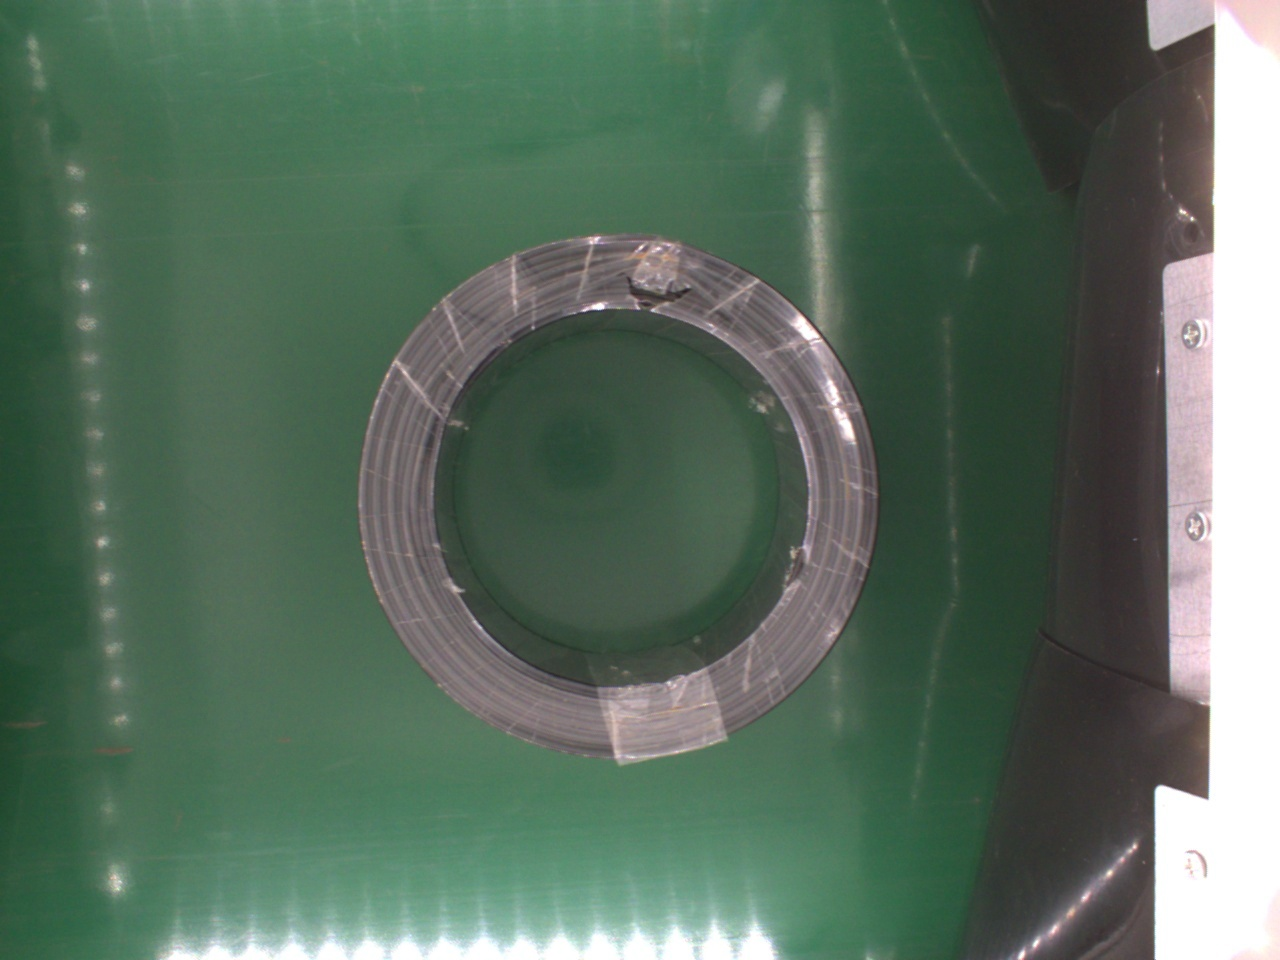black: (357, 235, 879, 756)
